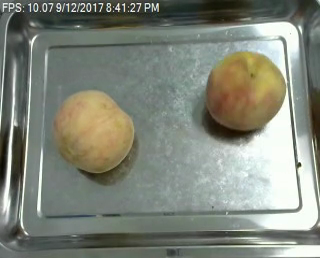Peach: (53, 88, 134, 173), (204, 50, 286, 132)
